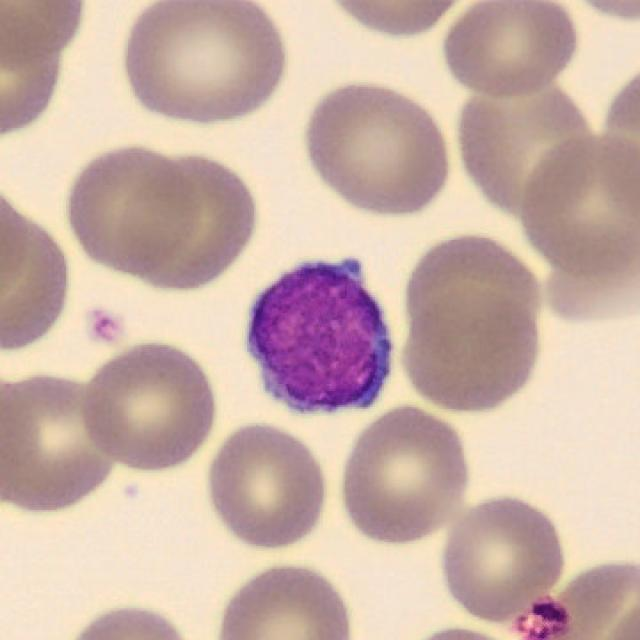Linfocito: (241, 258, 393, 416)
